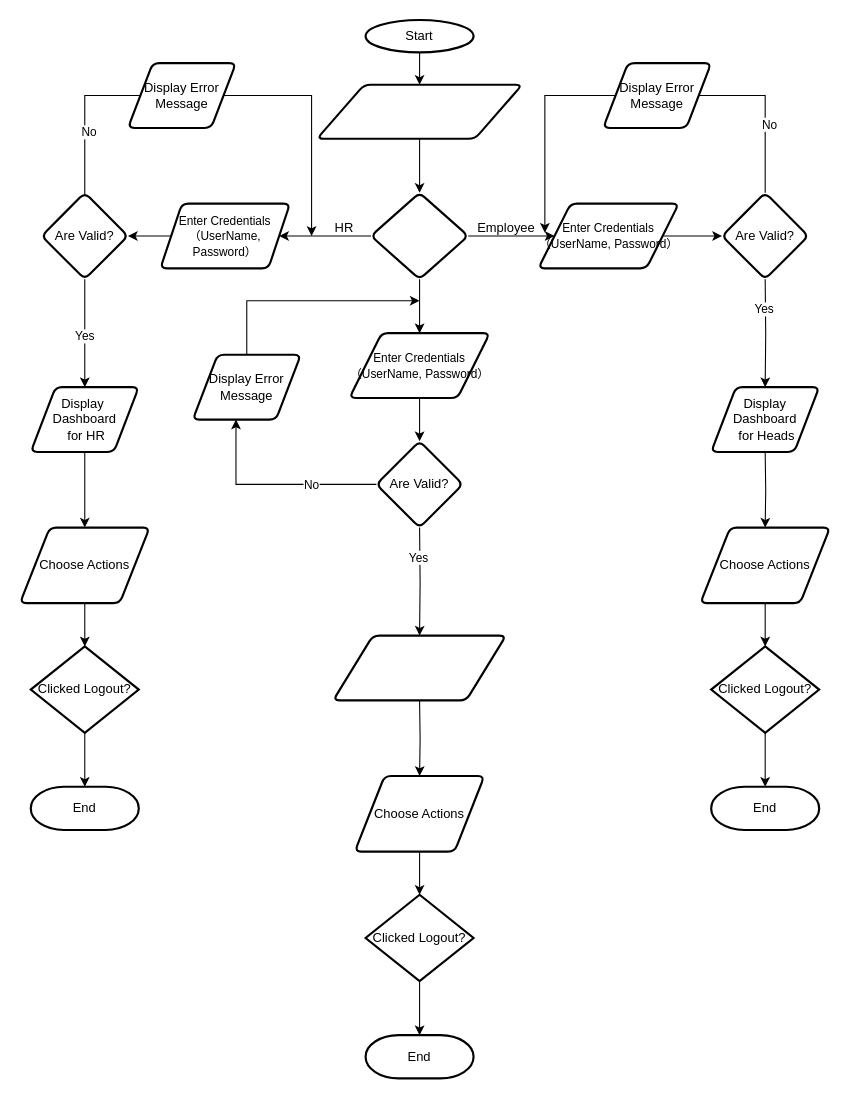
The diagram is 849 pixels wide and 1097 high, and some of its shapes have lost their labels. The shapes that lost their labels are listed below. From the top down, each one's box as (x1, y1, x2, y2) in pixels, then its label:
(315, 83, 523, 139): Choose User Role (HR, Head, Employee)
(369, 191, 469, 280): Which Role?
(332, 634, 507, 701): Display Dashboard for Employee
